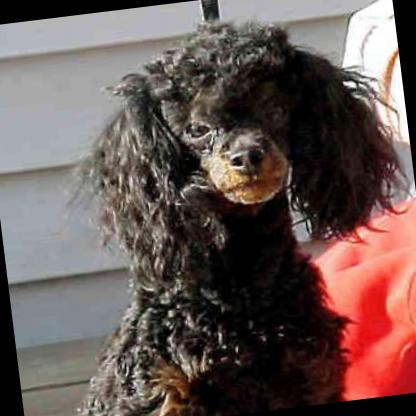toy_poodle: (13, 1, 416, 416)
